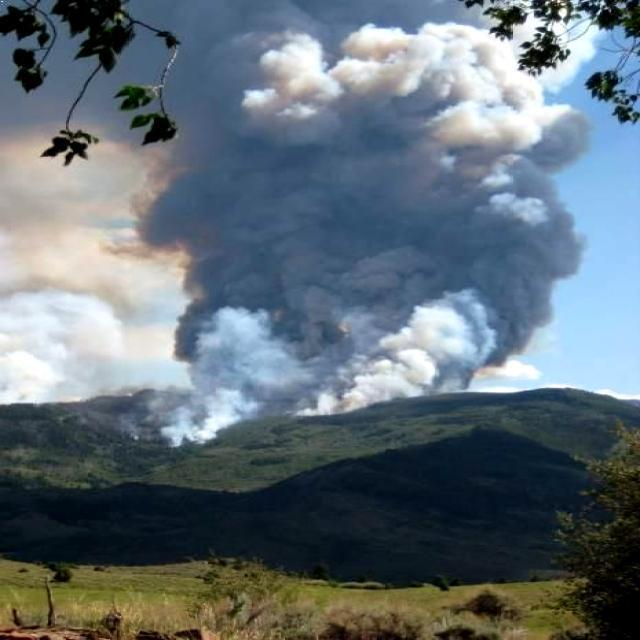Smoke: (81, 0, 595, 421)
